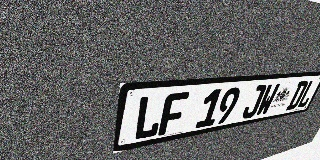1: (195, 88, 225, 128)
9: (214, 87, 242, 125)
D: (285, 81, 309, 111)
F: (158, 92, 190, 136)
J: (240, 84, 267, 120)
L: (133, 94, 165, 141), (296, 80, 319, 109)
W: (254, 83, 281, 117)
